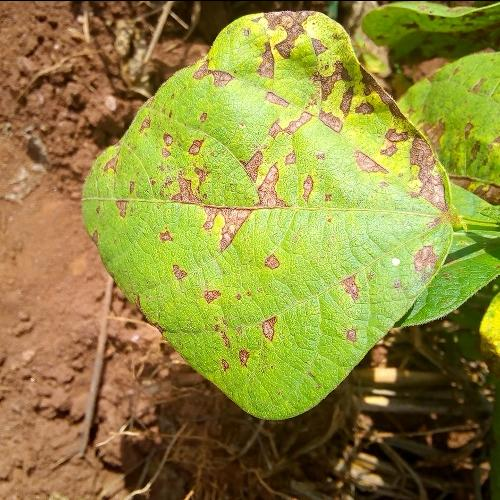hawar: (98, 11, 500, 370)
